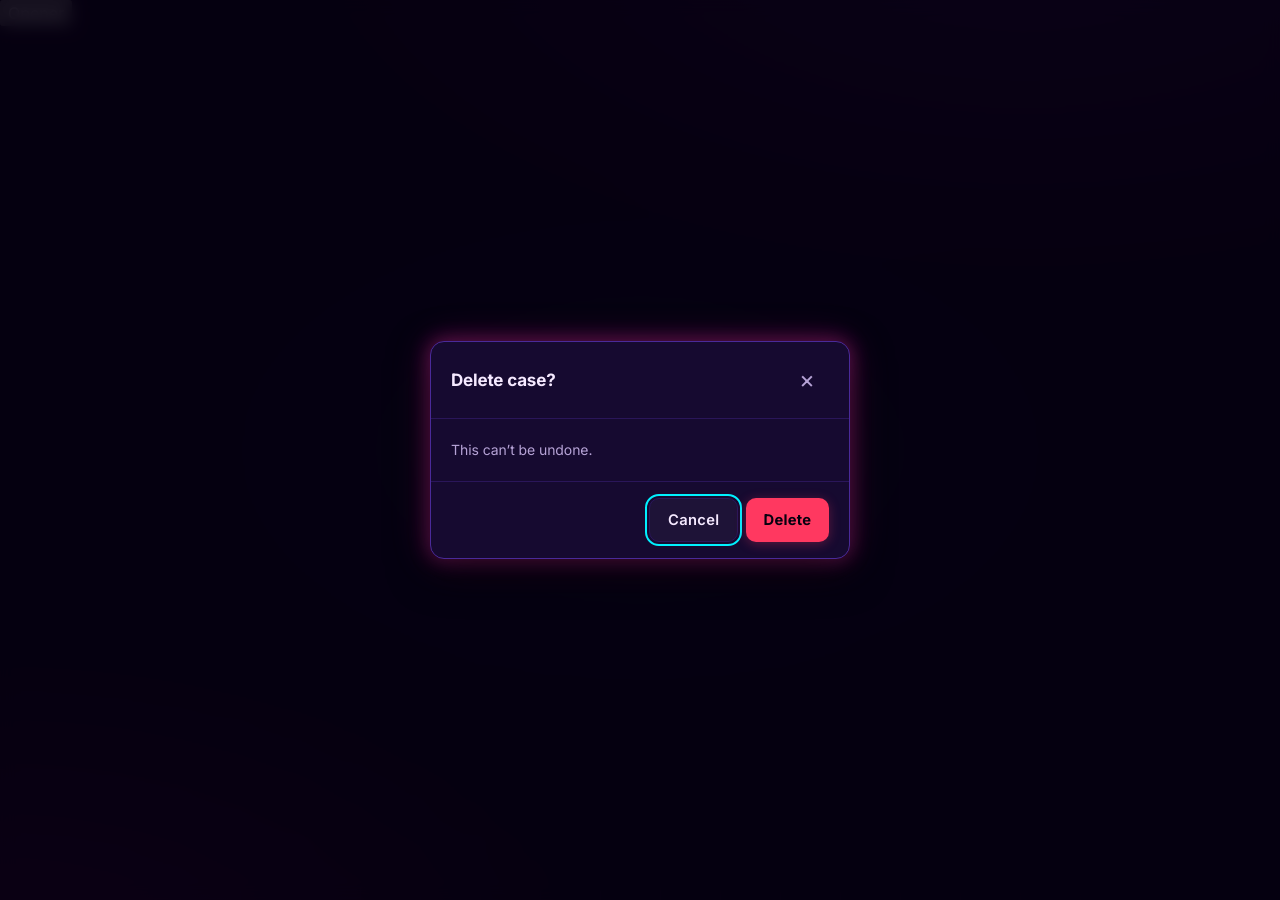
Test: confirm › resolves false on a click on the backdrop
Expected: the dialog is shown, [430, 341, 850, 559]
Click the element with class "modal".
click(77, 450)  # box [0, 0, 1279, 899]
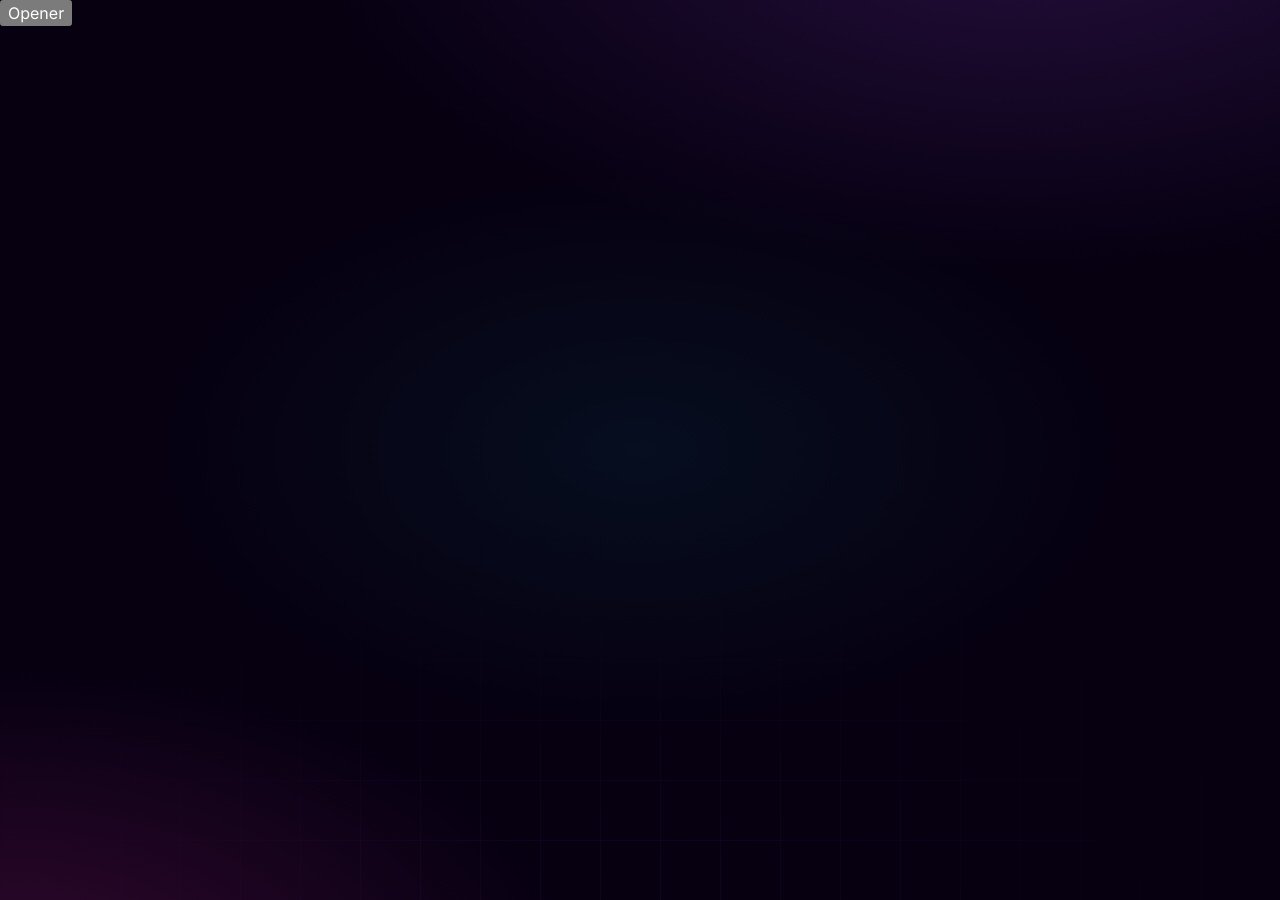
Result: the dialog is gone
